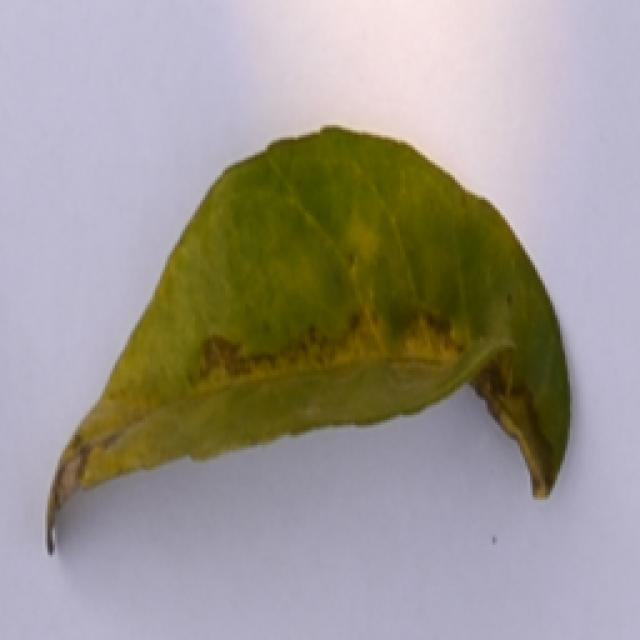greening: (25, 115, 590, 590)
